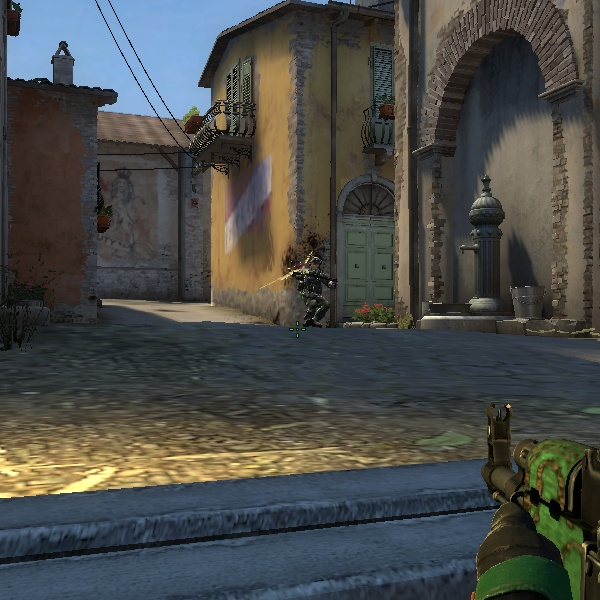ct_body: (291, 250, 335, 327)
